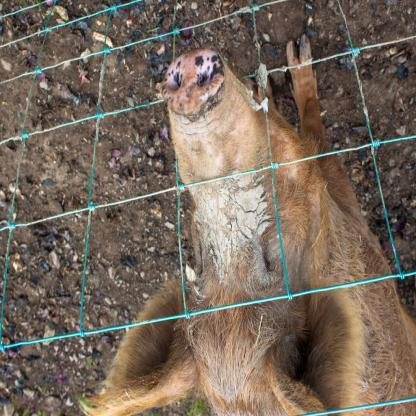boar: (77, 33, 415, 416)
